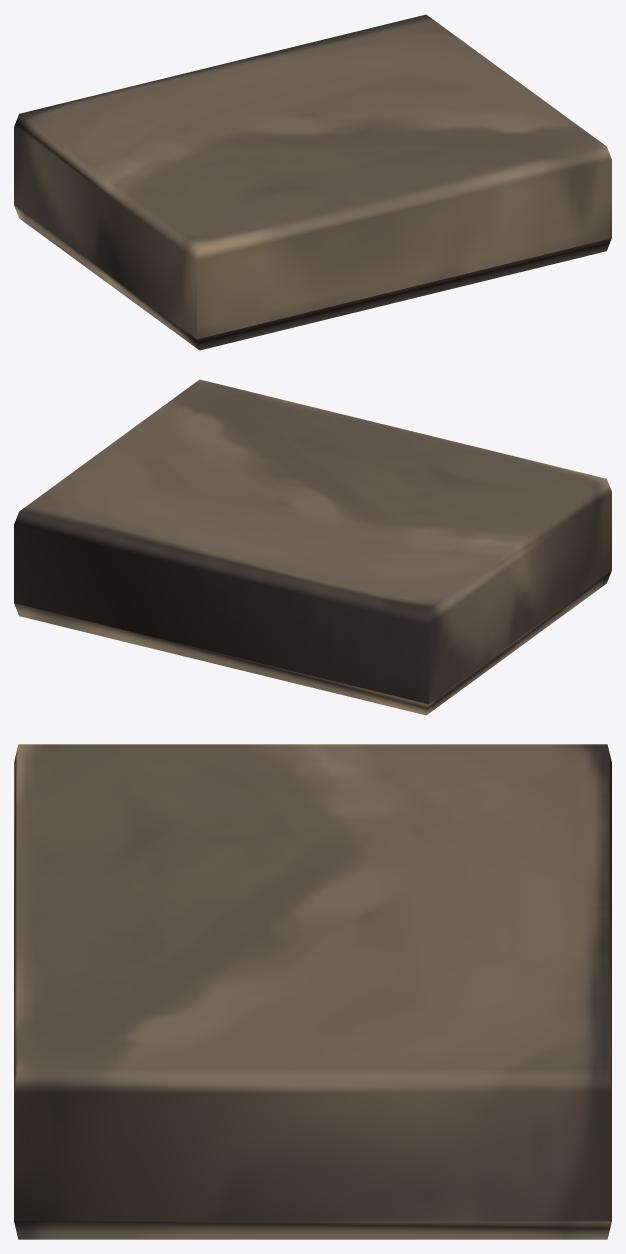
File: Brick_03.fbx
3 views of the same model, one above another, from view 1: azimuth 30°, elevation 25°; view 2: azimuth 150°, elevation 25°; view 3: azimuth 270°, elevation 25° (orthographic). The views are drawn at different scales.
Visible parts, largest first — view 1: Brick_03; view 2: Brick_03; view 3: Brick_03.
Part boxes in pixels (box(x1,y1,x2,y2)): Brick_03: box(14, 14, 611, 350); Brick_03: box(14, 379, 611, 715); Brick_03: box(14, 744, 611, 1239).
Size of the model in its own units: 99.55 by 23.99 by 76.12.
